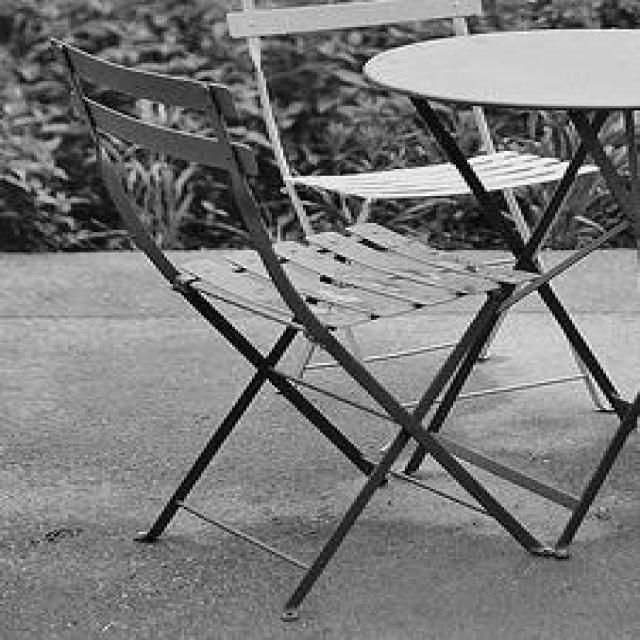chair: (49, 39, 574, 620), (212, 0, 615, 458)
